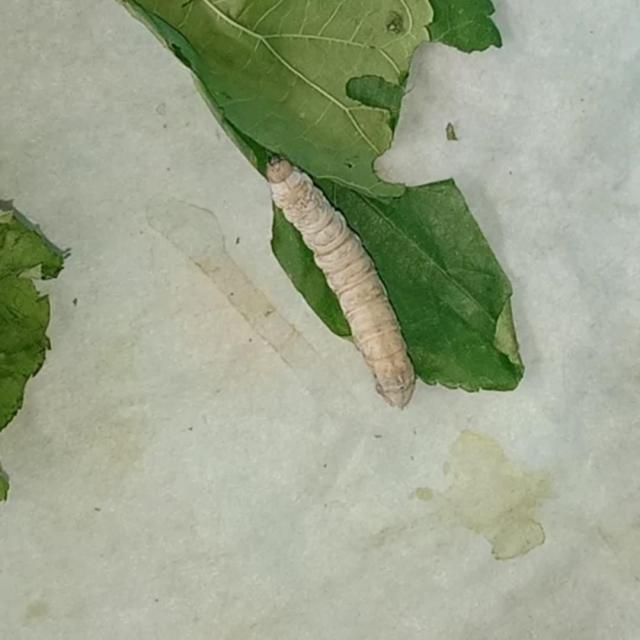Grasserie: (256, 146, 425, 411)
